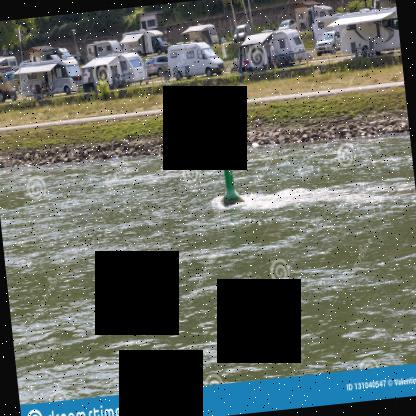Buoy: (214, 148, 249, 207)
